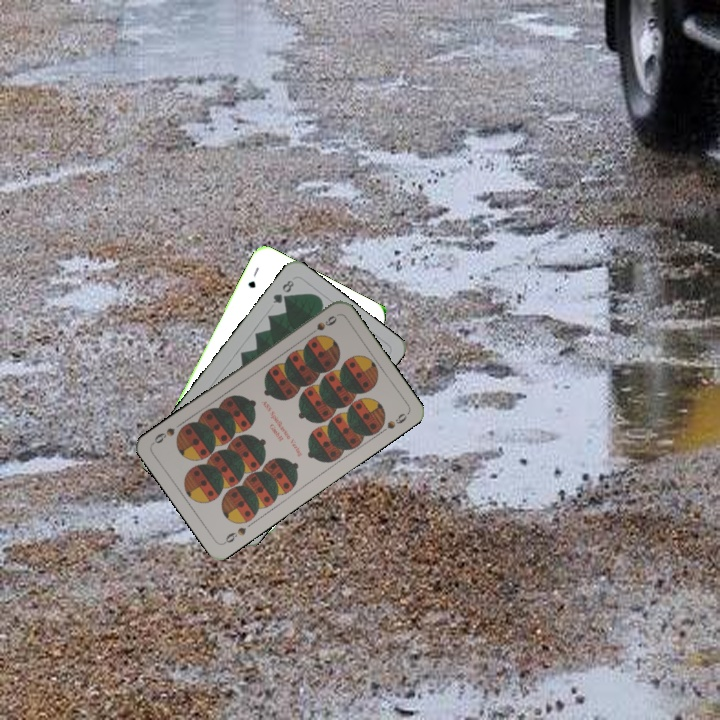G8: (269, 276, 297, 306)
GU: (244, 263, 262, 291)
S9: (304, 311, 340, 339), (219, 523, 249, 547)
